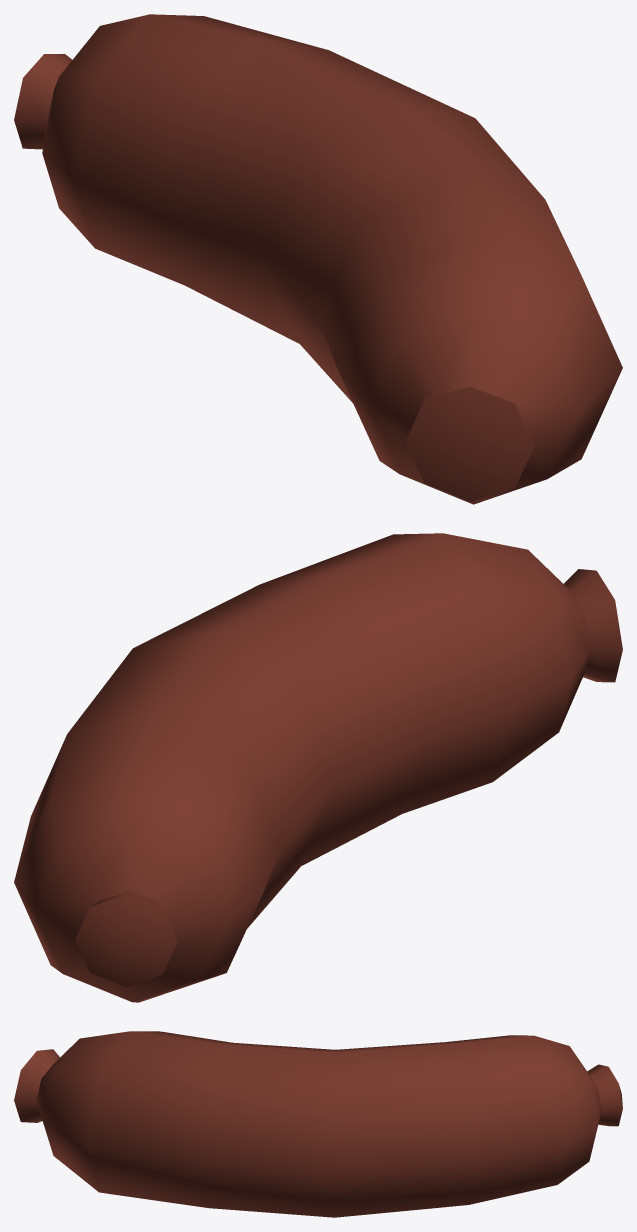
File: Sausage_01.fbx
3 renders of one model, top to bottom at view 1: azimuth 30°, elevation 25°; view 2: azimuth 150°, elevation 25°; view 3: azimuth 270°, elevation 25°, orthographic. The views are drawn at different scales.
Parts seen in each view (by area): view 1: Sausage_01; view 2: Sausage_01; view 3: Sausage_01.
Boxes of the visible parts, x1,y1,x2,y2 form: Sausage_01: (14,14,622,504); Sausage_01: (14,533,622,1002); Sausage_01: (14,1031,622,1217).
Size of the model in its own units: 0.063 by 0.048 by 0.1635.
